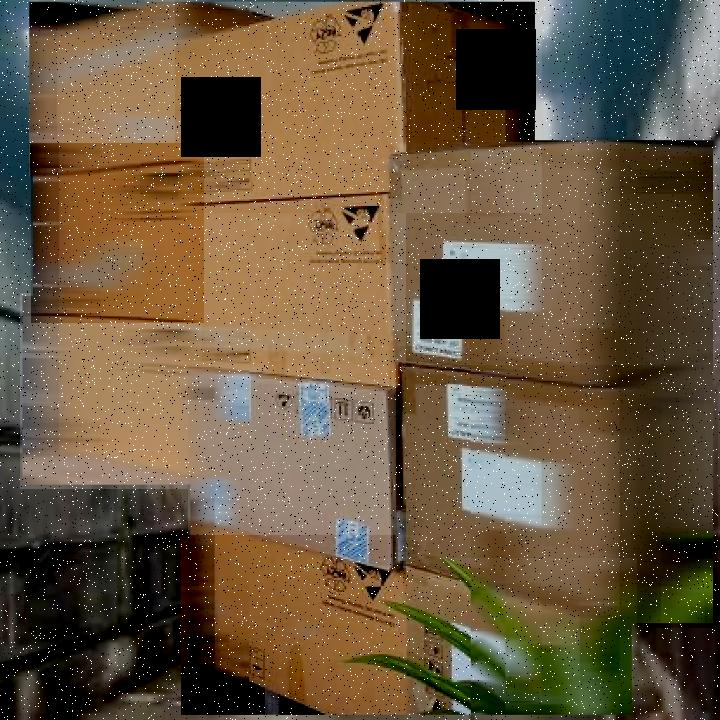box: (375, 137, 720, 390), (397, 365, 718, 628), (176, 0, 542, 213), (172, 184, 406, 398), (188, 364, 413, 578), (176, 535, 426, 718), (375, 558, 637, 718), (20, 293, 202, 489), (31, 143, 204, 323), (29, 0, 198, 177)
